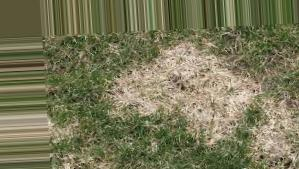patch: (119, 53, 244, 134), (254, 100, 290, 162)
